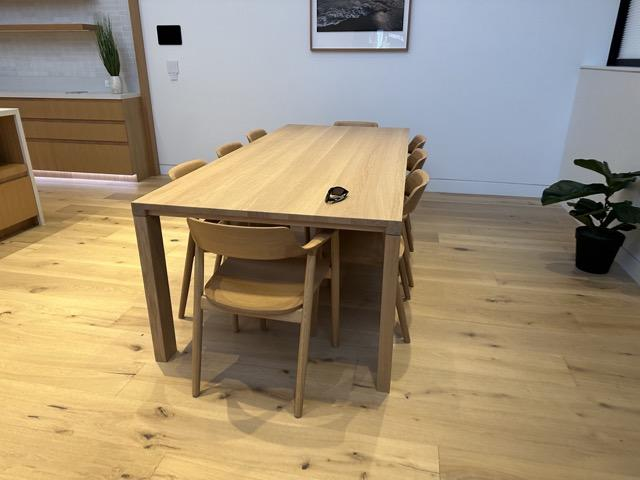Sunglasses: (323, 185, 350, 204)
